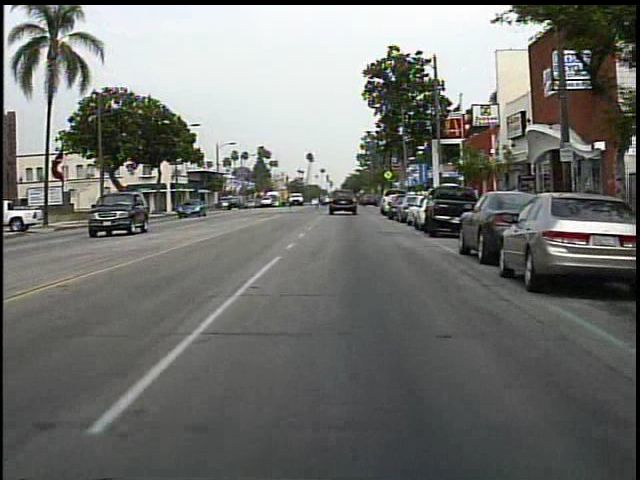person: (317, 187, 331, 216)
